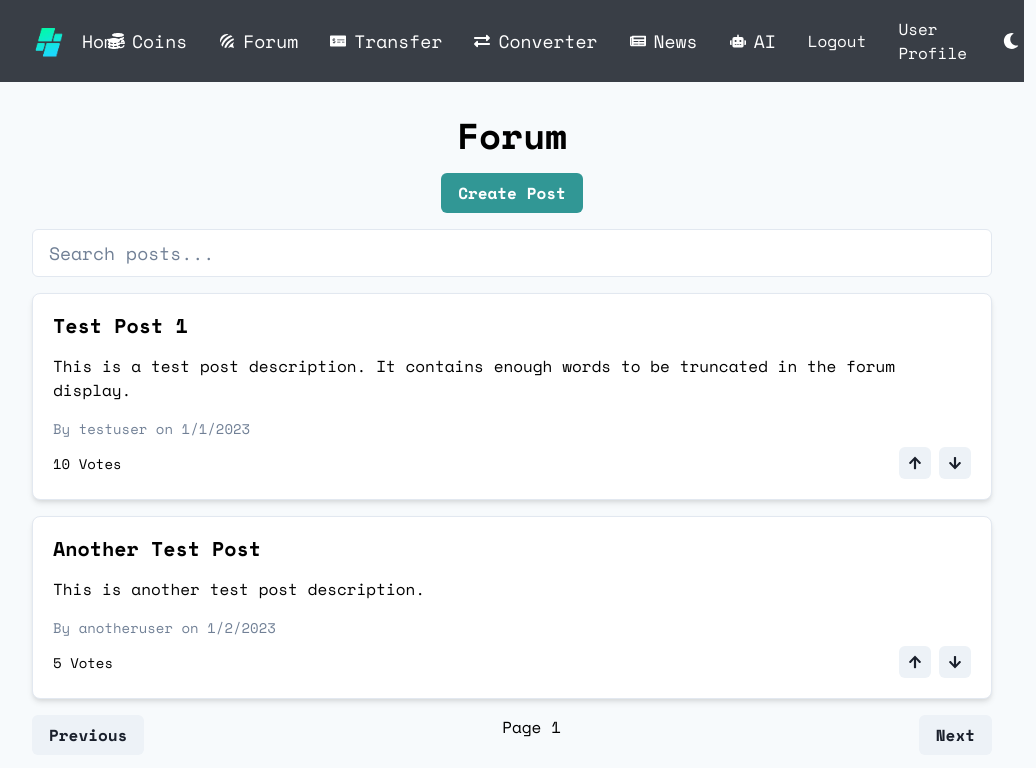
it: Forum Page › should filter posts by search term
This screenshot has width=1036, height=768.
Type "Test Post 1" into the field with test id "search-input" at [512, 253], box [32,229,992,277]
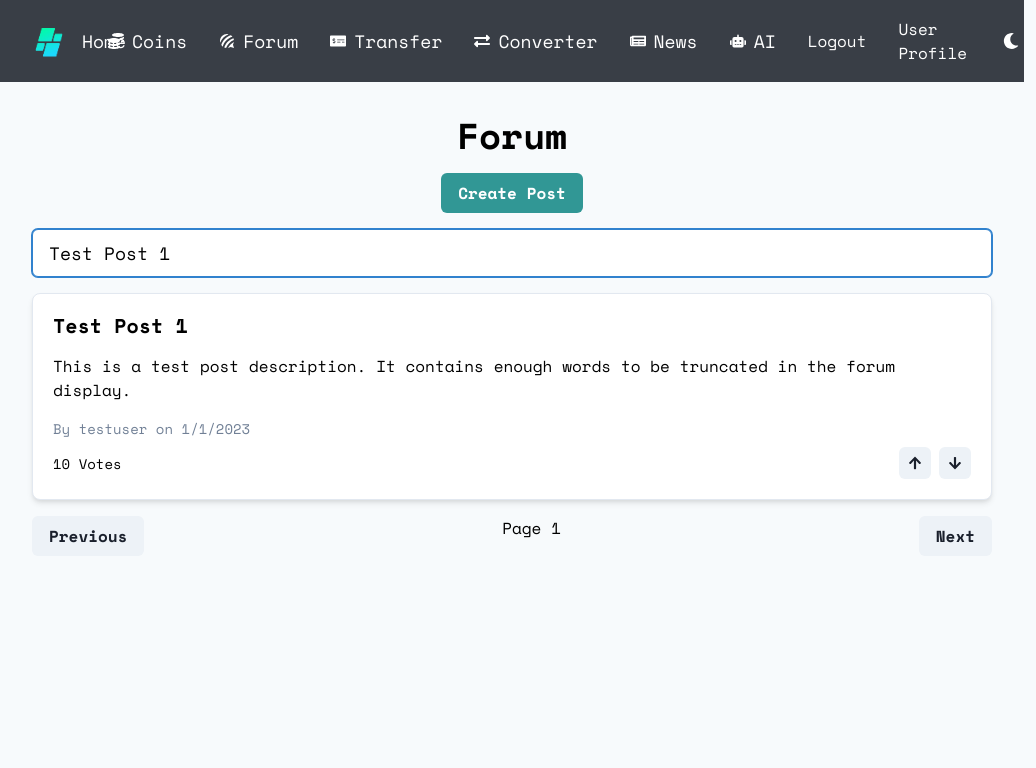
Check: the element with test id "post-post1" is shown, box [32,293,992,500]
Check: the element with test id "post-post2" is gone
